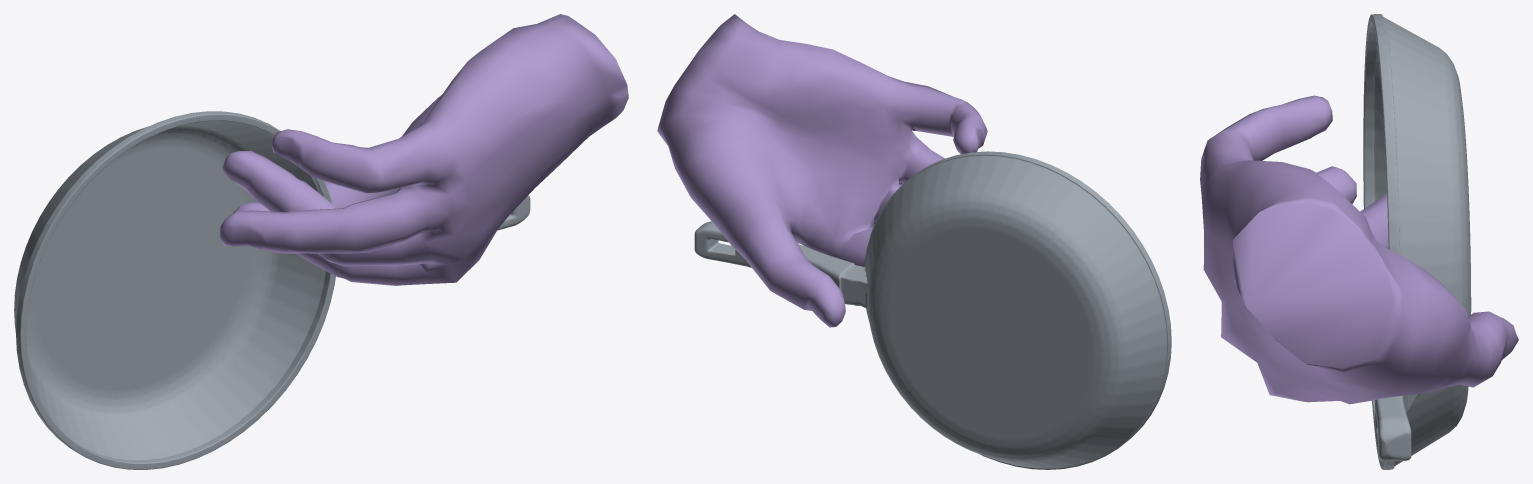
The model's file is ours_3.glb.
3 views of the same model, side by side, from view 1: azimuth 30°, elevation 25°; view 2: azimuth 150°, elevation 25°; view 3: azimuth 270°, elevation 25° (orthographic). The views are drawn at different scales.
Size of the model in its own units: 0.2599 by 0.1655 by 0.1049.
